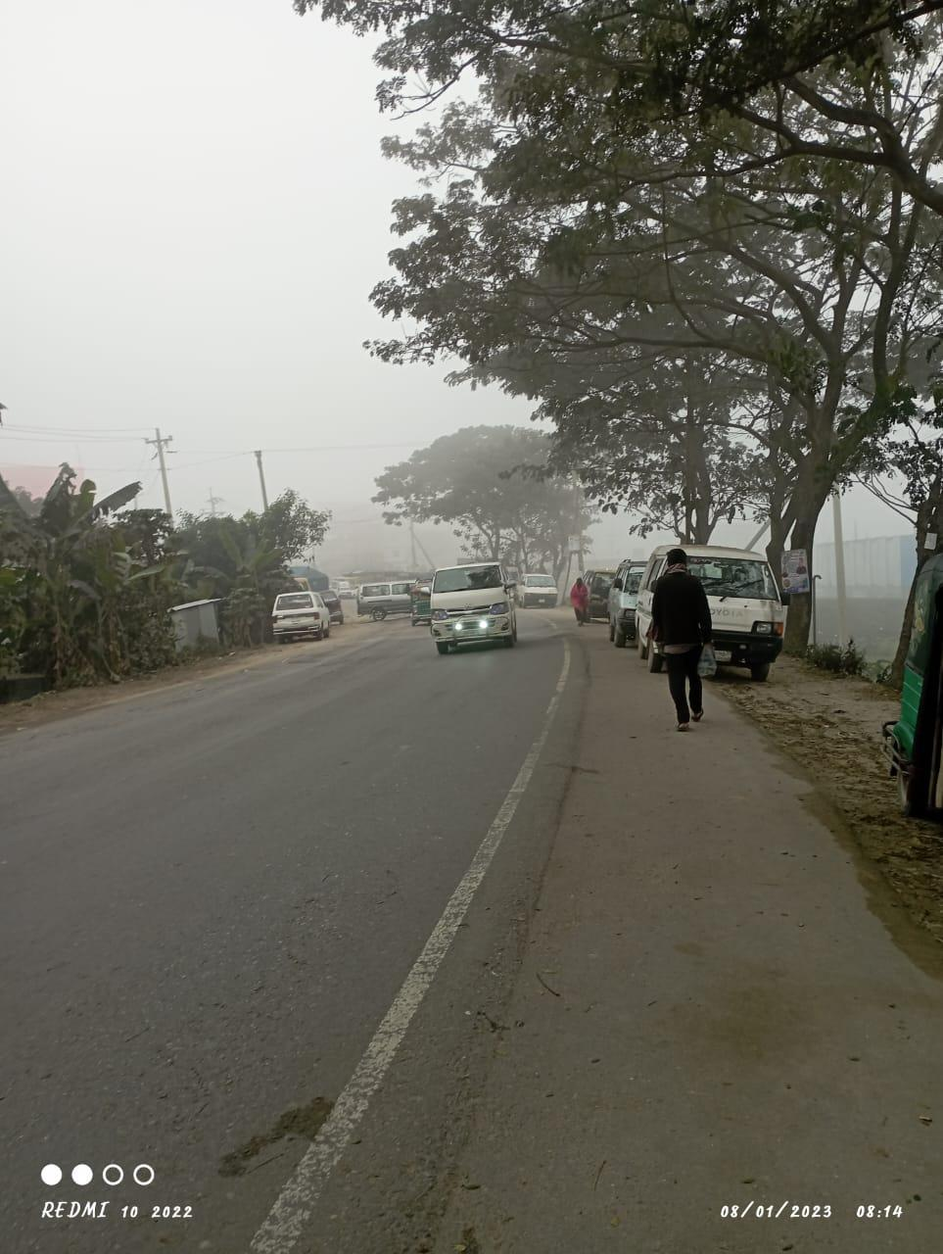Car: (639, 534, 799, 698), (425, 557, 521, 653), (264, 584, 335, 643), (510, 561, 566, 620), (353, 580, 417, 619)
